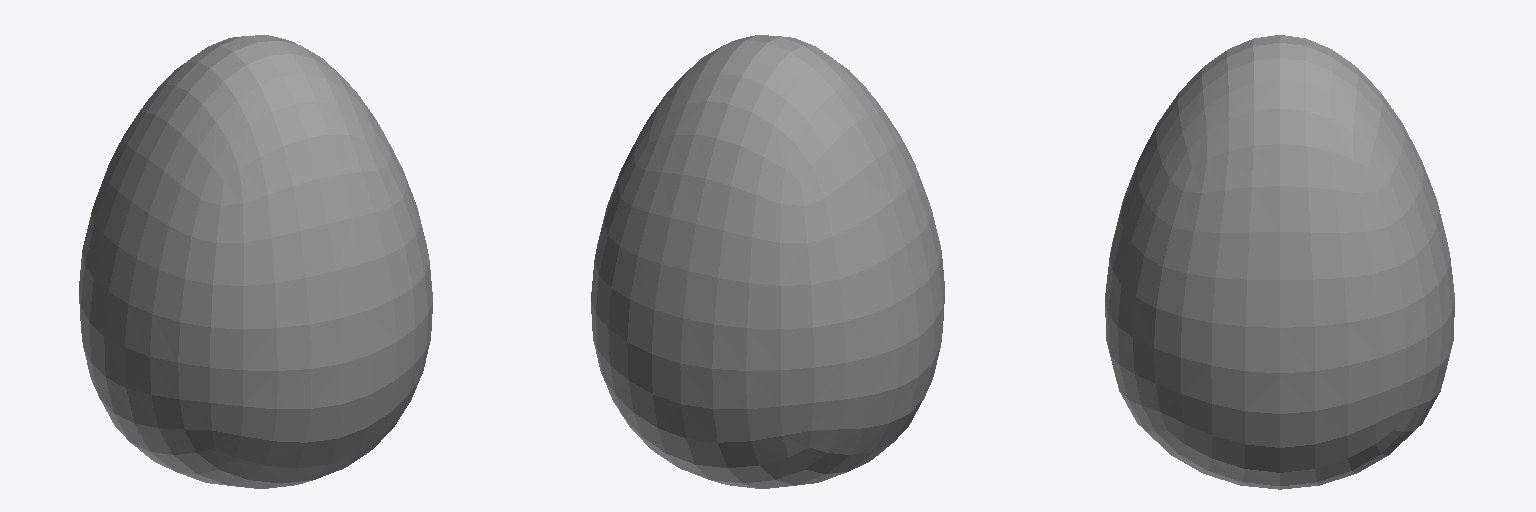
File: egg.obj
3 renders of one model, left to right at view 1: azimuth 30°, elevation 25°; view 2: azimuth 150°, elevation 25°; view 3: azimuth 270°, elevation 25°, orthographic.
Visible parts, largest first — view 1: Cube; view 2: Cube; view 3: Cube.
Part boxes in pixels (x1,y1,x2,y2): Cube: (79,35,432,488); Cube: (591,35,944,488); Cube: (1105,35,1454,489).
Size of the model in its own units: 0.7748 by 1.04 by 0.7748.